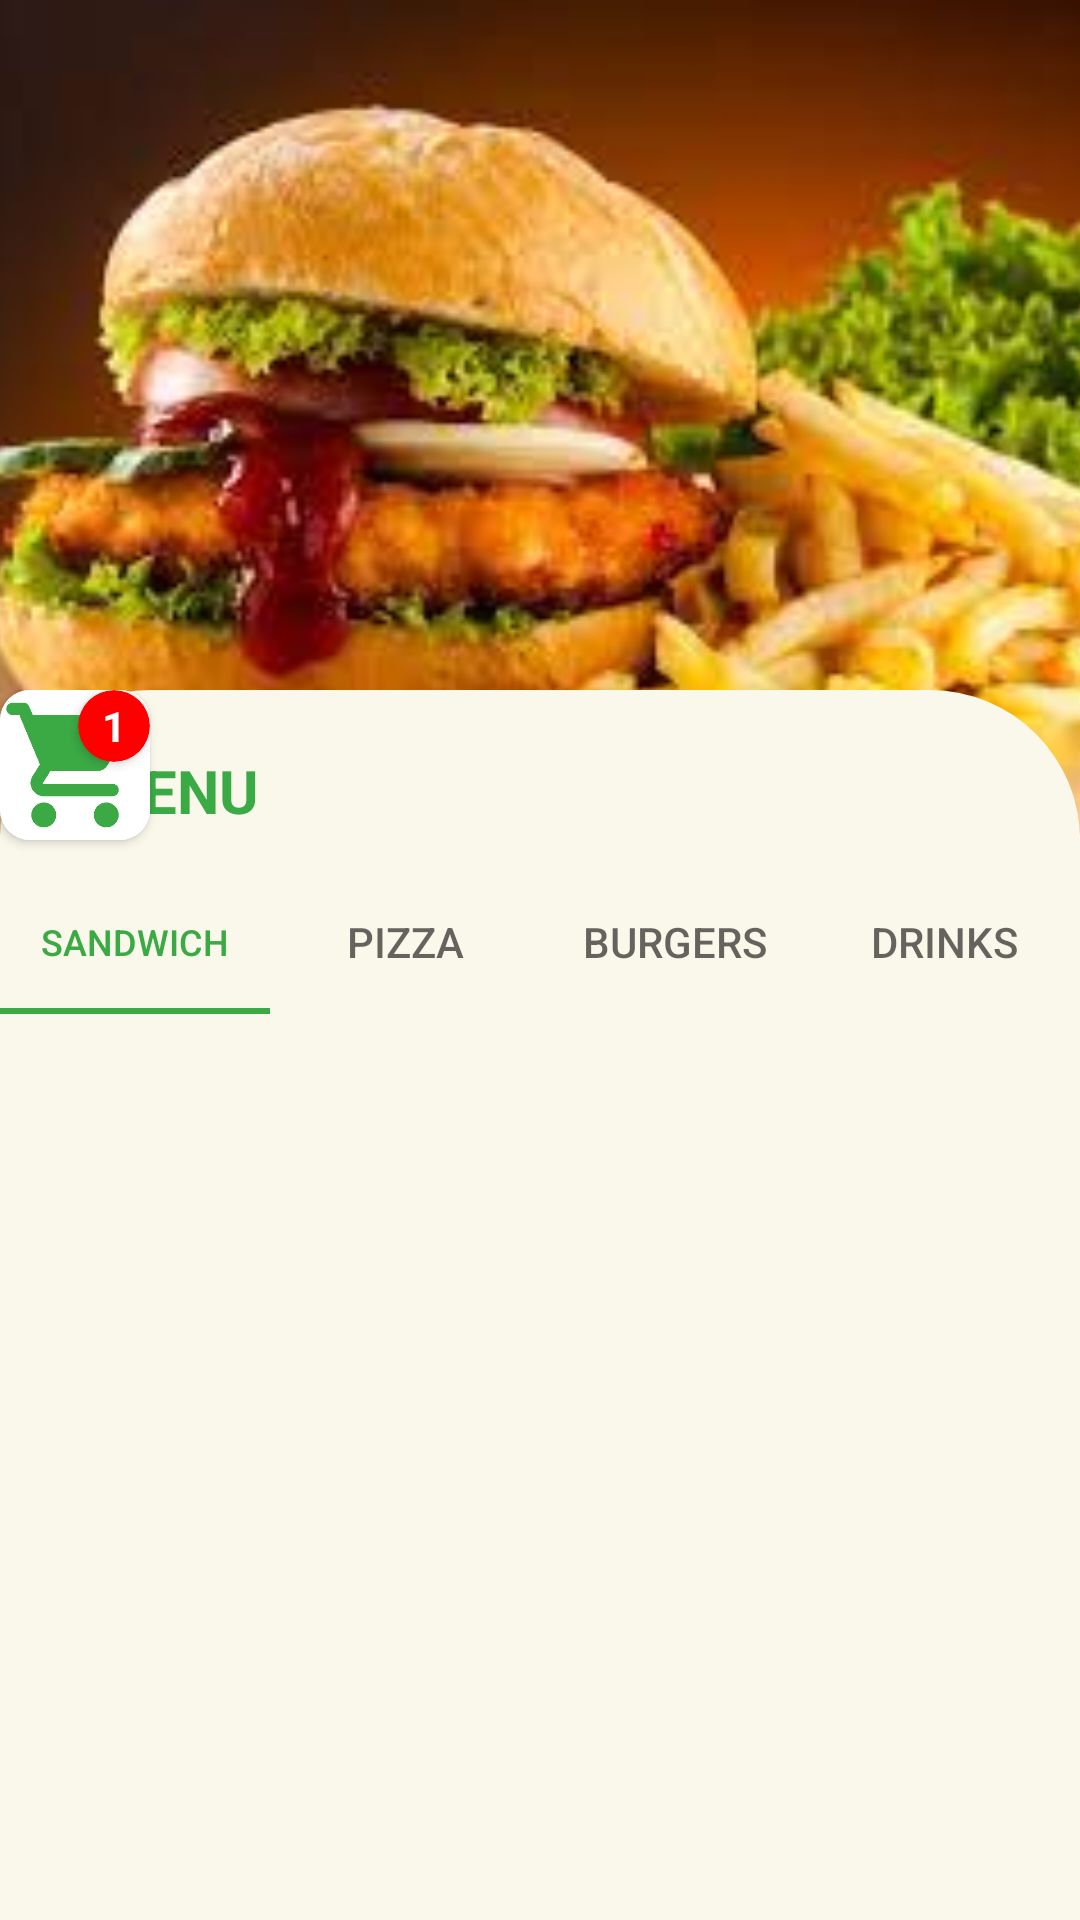

Icons on this 1080 × 1920 Android screen, each with the point to tap as [x,y]:
cart: [75,765]
